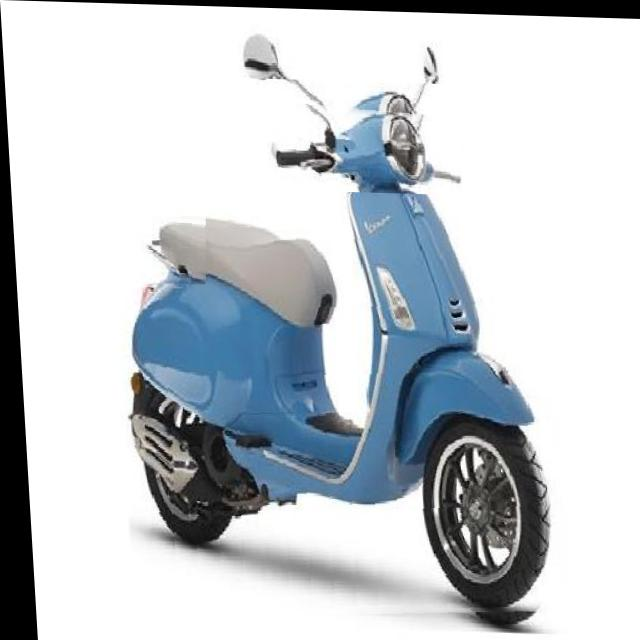All: (96, 73, 574, 628)
Head: (264, 99, 461, 193)
Tail: (136, 208, 206, 283)
